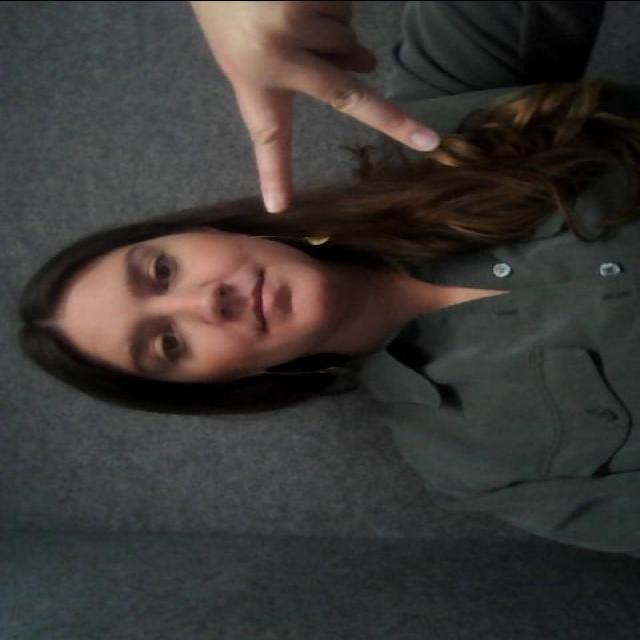Scissors: (206, 0, 436, 219)
